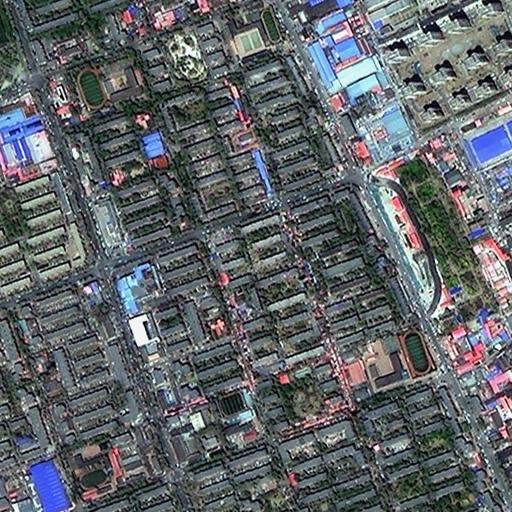school: (360, 327, 436, 391), (71, 50, 143, 114), (222, 2, 284, 59), (71, 440, 126, 502), (217, 386, 263, 454)
